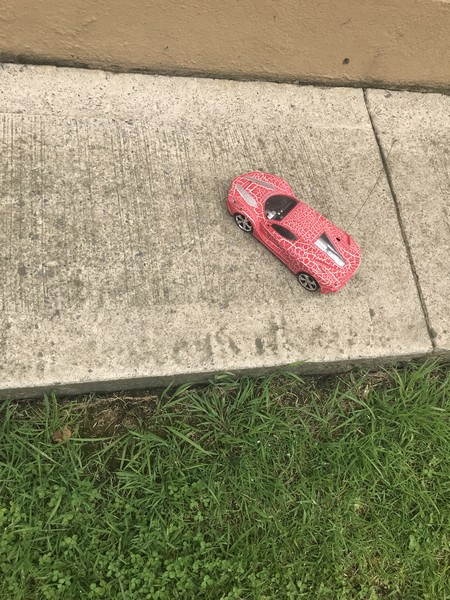RC: (223, 171, 366, 295)
